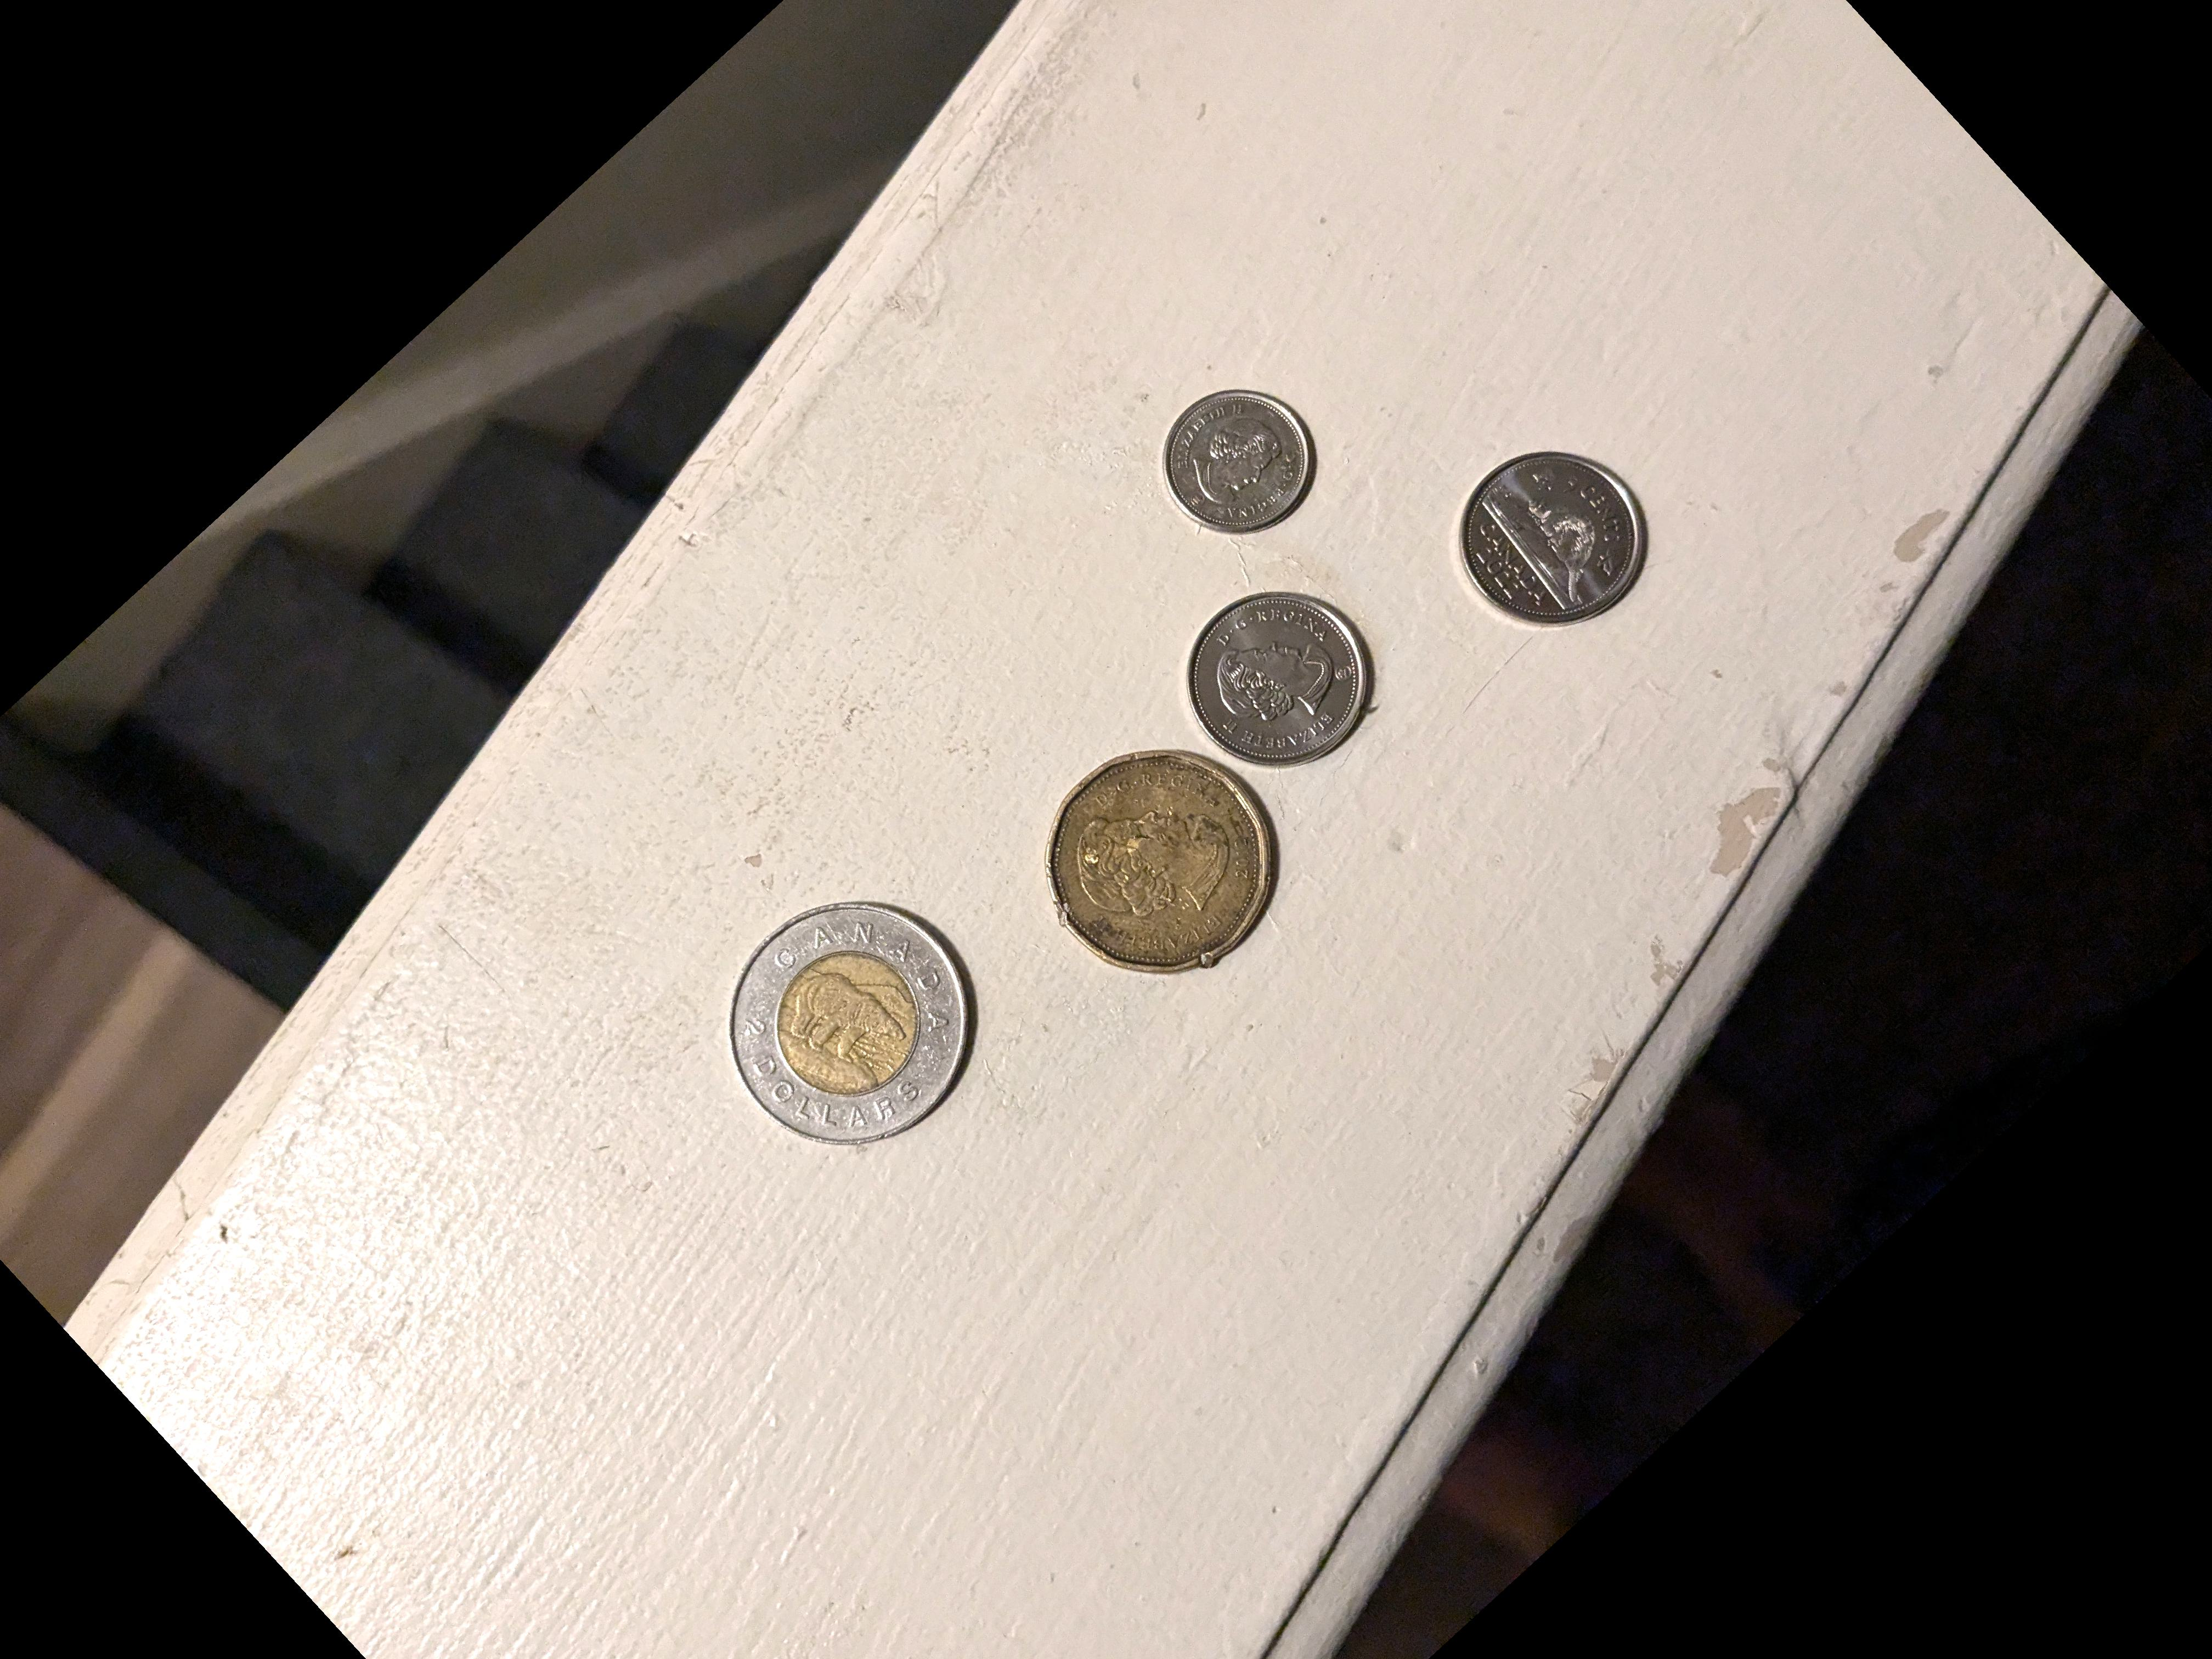dime: (1169, 385, 1313, 530)
loonie: (1050, 756, 1278, 976)
nickel: (1456, 443, 1649, 624), (1191, 589, 1379, 772)
toonie: (721, 903, 979, 1140)
